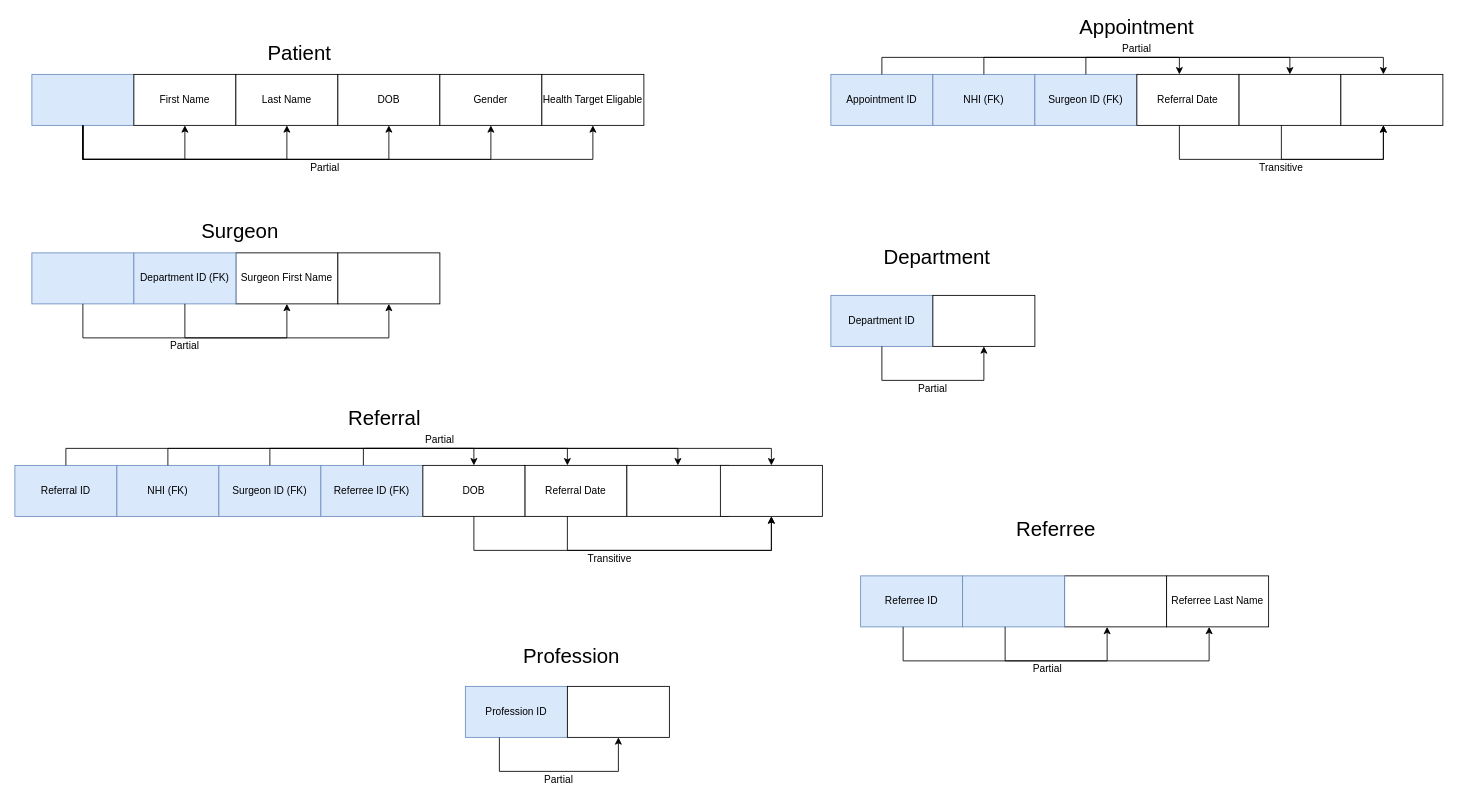
The diagram is 1458 pixels wide and 802 high, and some of its shapes have lost their labels. The centre of each missing label's shape, as x and y in pixels:
Added to waitlist date: the point at 677,490
Days waiting from referral date: the point at 1391,99
Department Name: the point at 983,320
FSA Date: the point at 1289,99
Name: the point at 618,711
NHI: the point at 82,99
Patient age at referral: the point at 771,490
Profession ID (FK): the point at 1013,601
Referree First Name: the point at 1115,601
Surgeon ID: the point at 82,278
Surgeon Last Name: the point at 388,278
